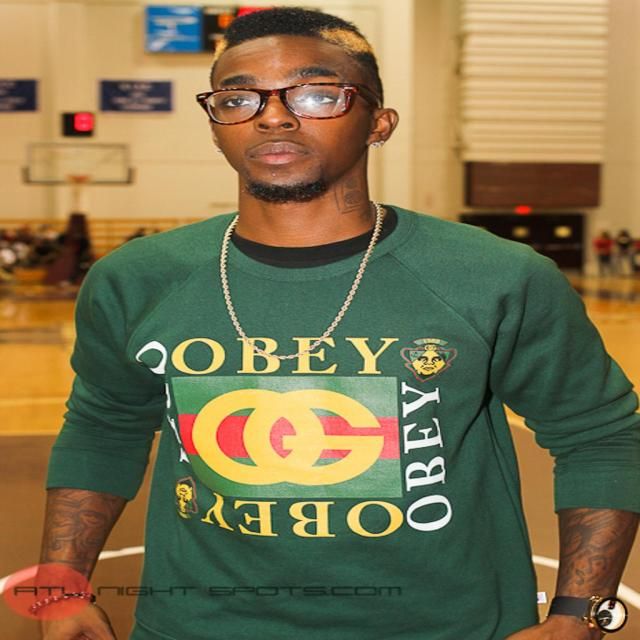Face: (210, 34, 377, 202)
